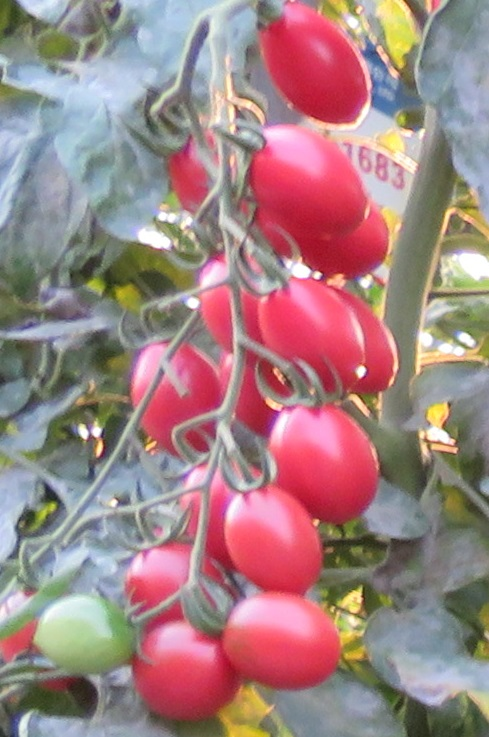green: (34, 591, 140, 676)
red: (253, 272, 371, 395), (266, 403, 379, 528), (246, 120, 368, 235), (262, 7, 371, 125), (218, 479, 325, 593), (224, 595, 349, 691), (129, 341, 224, 466), (130, 626, 246, 720), (195, 250, 276, 359), (127, 544, 232, 625), (170, 133, 231, 214)
